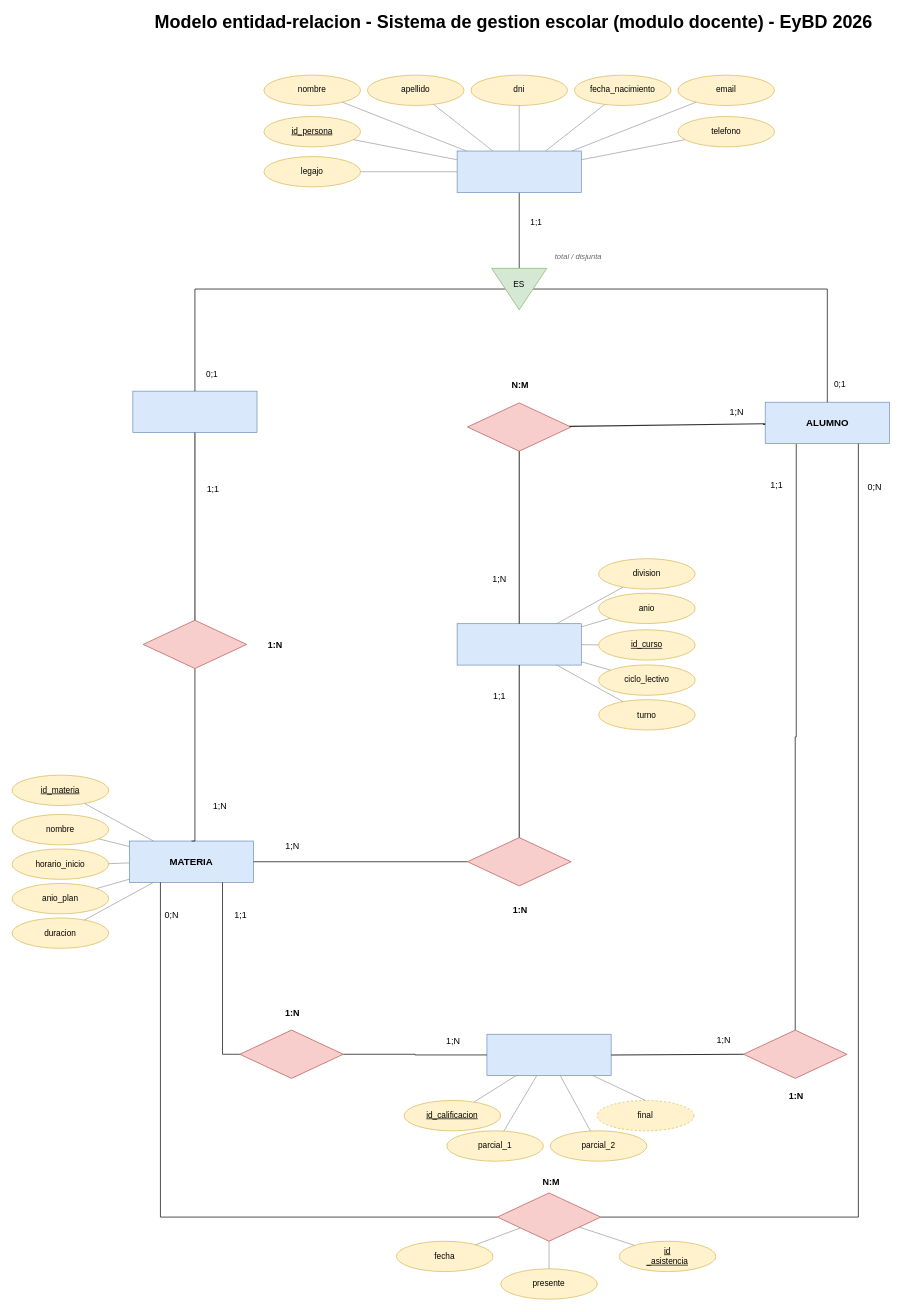
The diagram is 902 pixels wide and 1312 high, and some of its shapes have lost their labels. The centre of each missing label's shape, as x and y in pixels:
ASISTE: the point at 549,1216
CALIFICACION: the point at 548,1055
CONTIENE: the point at 519,861
CURSO: the point at 518,644
ENSEÑA: the point at 194,644
PERSONA: the point at 518,171
PERTENECE: the point at 519,426
PROFESOR: the point at 194,411
RINDE: the point at 795,1053
TIENE: the point at 291,1053
